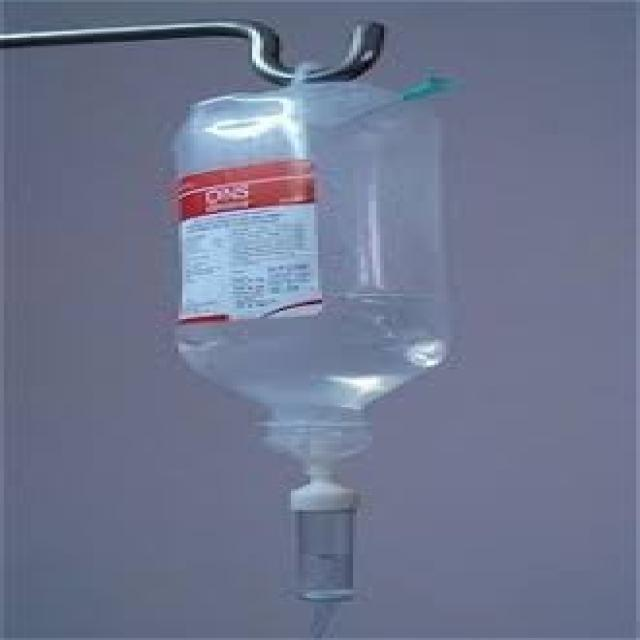B3: (162, 69, 486, 491)
